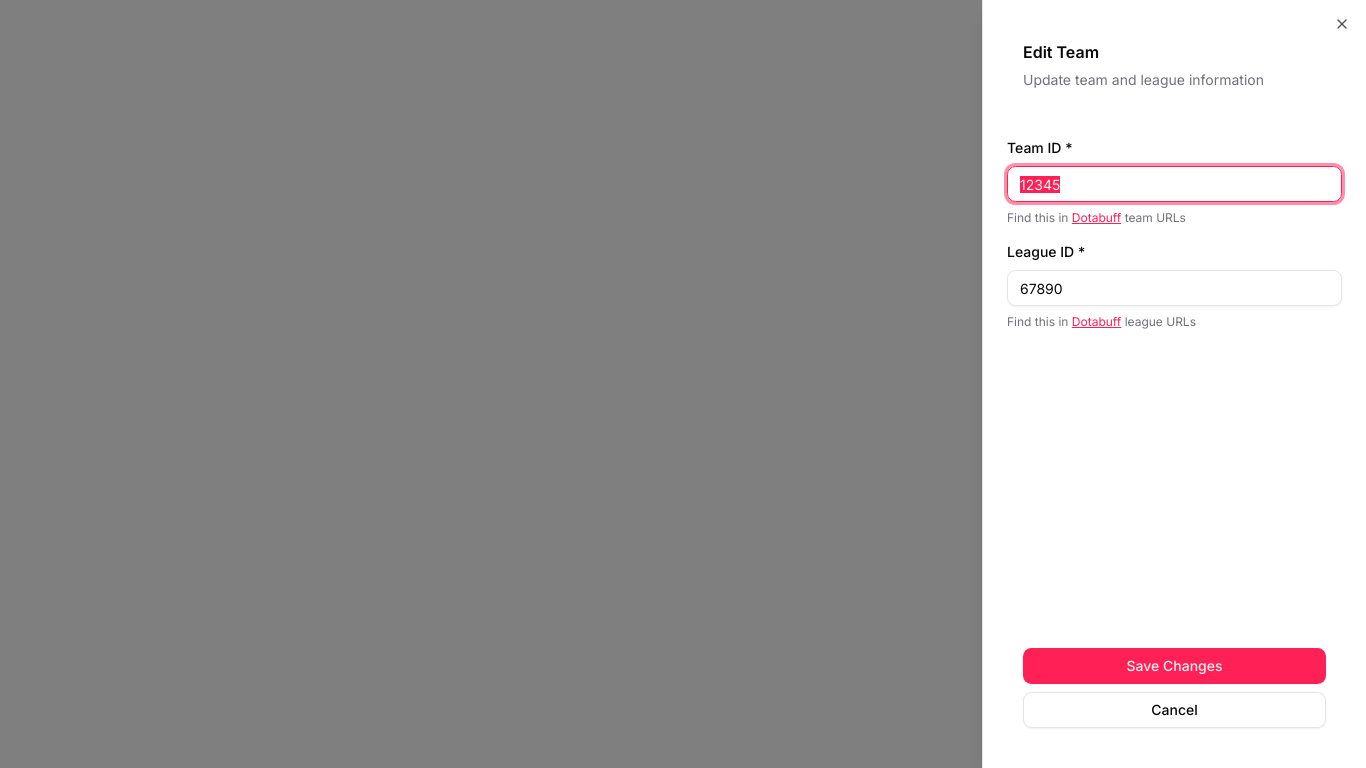
it: EditTeamSheet › should disable save button when league ID is empty
The width and height of the screenshot is (1366, 768).
Note: Clear the league ID input
Clear the field labelled "League ID *" at [1174, 288], box [1007,270,1342,306]
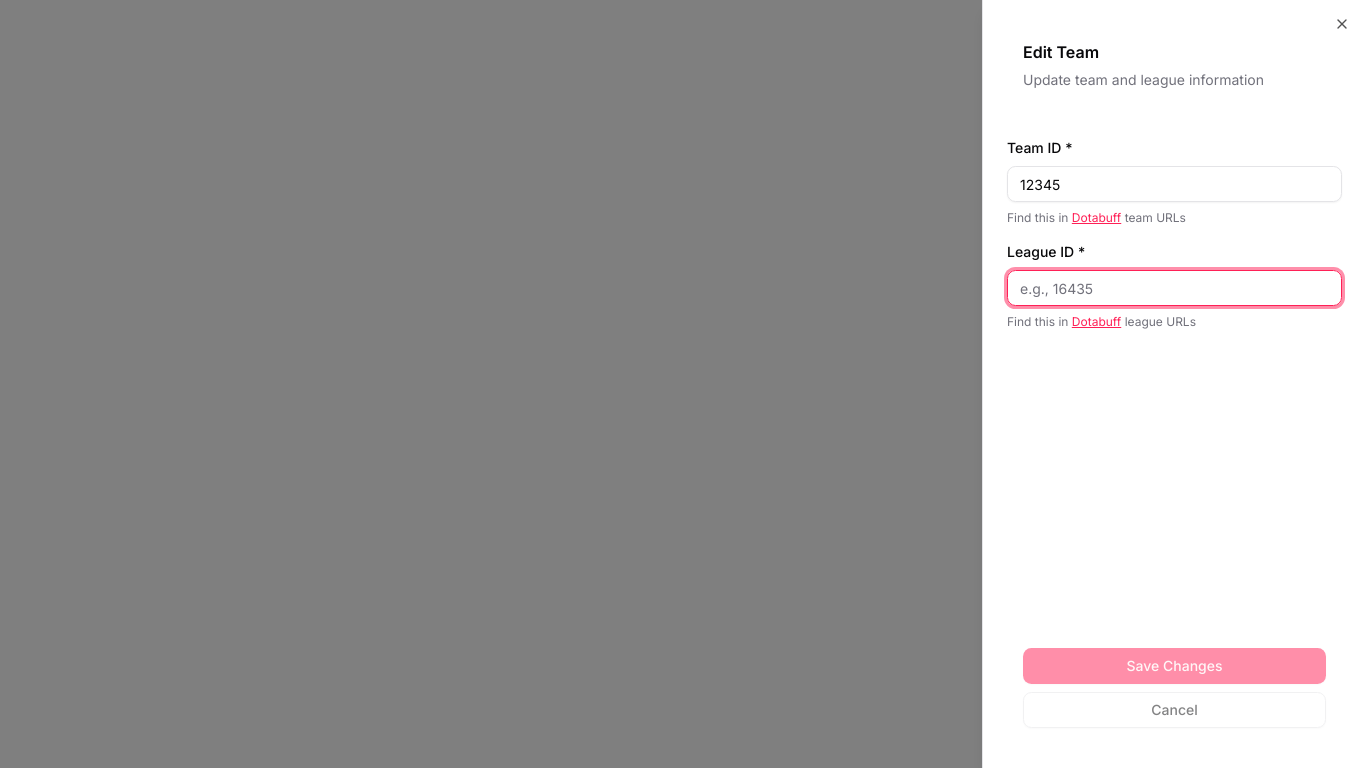
Now the button "Save Changes" is disabled, box [1023,648,1326,684]
